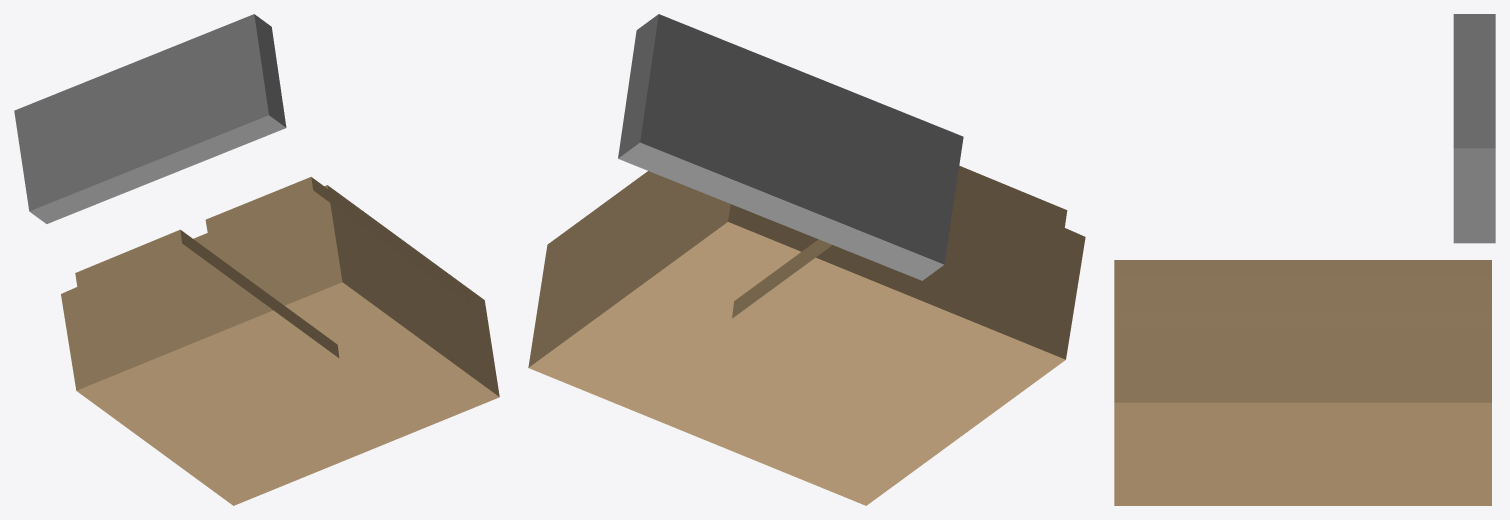
3 renders of one model, left to right at view 1: azimuth 30°, elevation 25°; view 2: azimuth 150°, elevation 25°; view 3: azimuth 270°, elevation 25°, orthographic. The views are drawn at different scales.
Parts seen in each view (by area): view 1: 0_1_2_0_3_1_3_3_0; view 2: 0_1_2_0_3_1_3_3_0; view 3: 0_1_2_0_3_1_3_3_0.
Boxes of the visible parts, x1=… form: 0_1_2_0_3_1_3_3_0: x1=14, y1=14, x2=499, y2=505; 0_1_2_0_3_1_3_3_0: x1=528, y1=14, x2=1085, y2=505; 0_1_2_0_3_1_3_3_0: x1=1114, y1=14, x2=1495, y2=505.
Size of the model in its own units: 32.39 by 31.44 by 27.25.
